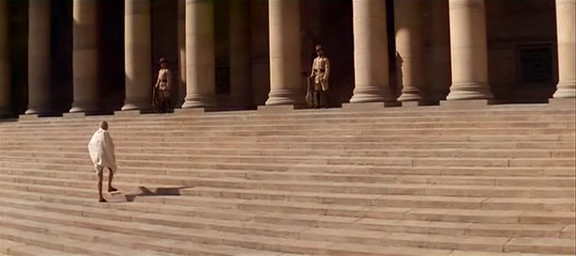els: (1, 1, 576, 256)
face_es: (103, 124, 108, 131), (160, 62, 165, 68), (317, 50, 321, 56)
person: (88, 121, 118, 202), (305, 45, 330, 108), (153, 58, 173, 113)
